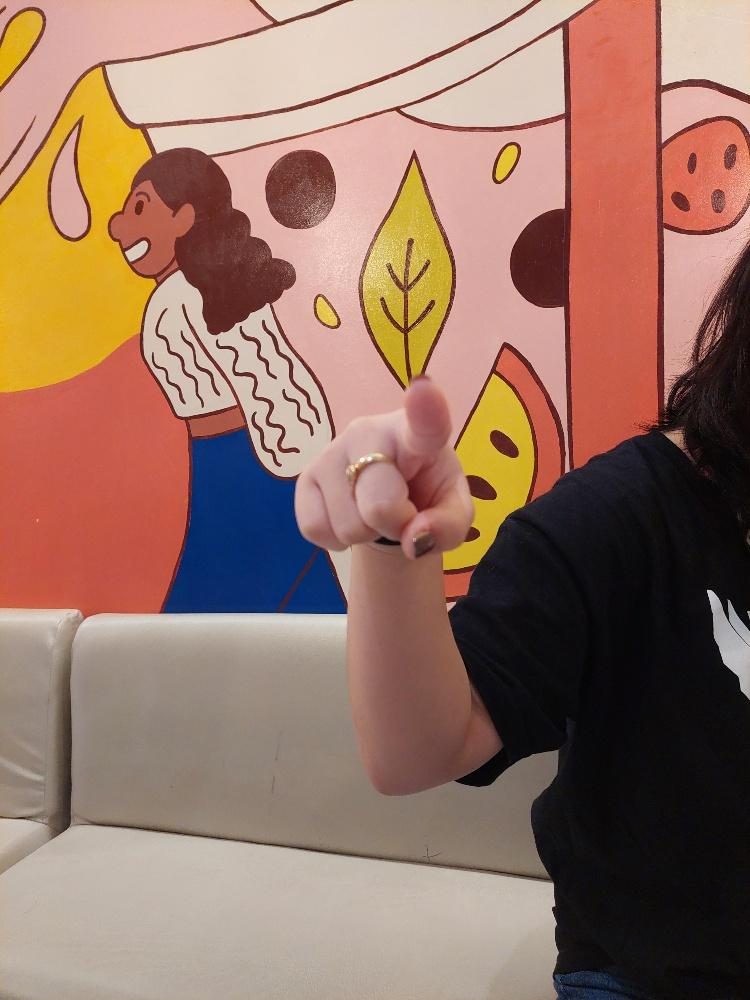z: (294, 369, 476, 562)
